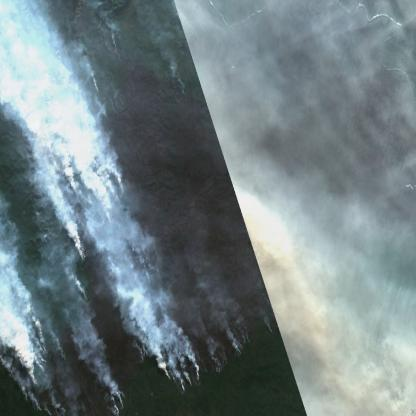fire: (153, 329, 258, 396), (0, 319, 65, 416), (100, 177, 131, 233), (98, 389, 134, 416), (73, 239, 88, 300)
